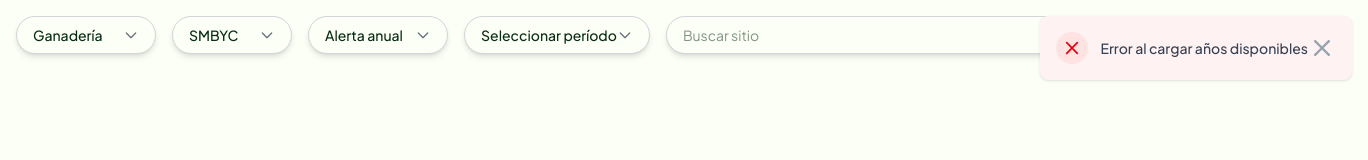
it: FilterBar › error toasts › lets the toast be dismissed
Expected: the text "Error al cargar años disponibles" is shown, [1100,38,1308,58]
Click the button named "Cerrar": (1322, 48) [1308,34,1336,62]
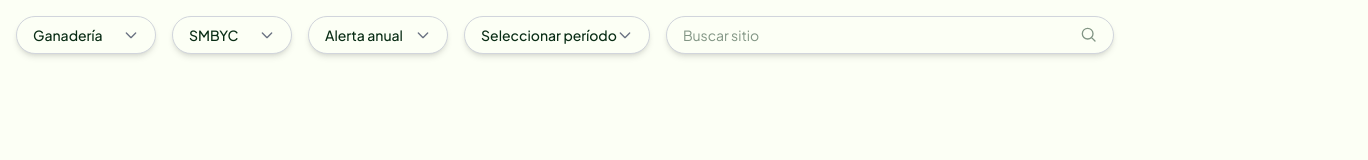
Expected: the text "Error al cargar años disponibles" is gone
